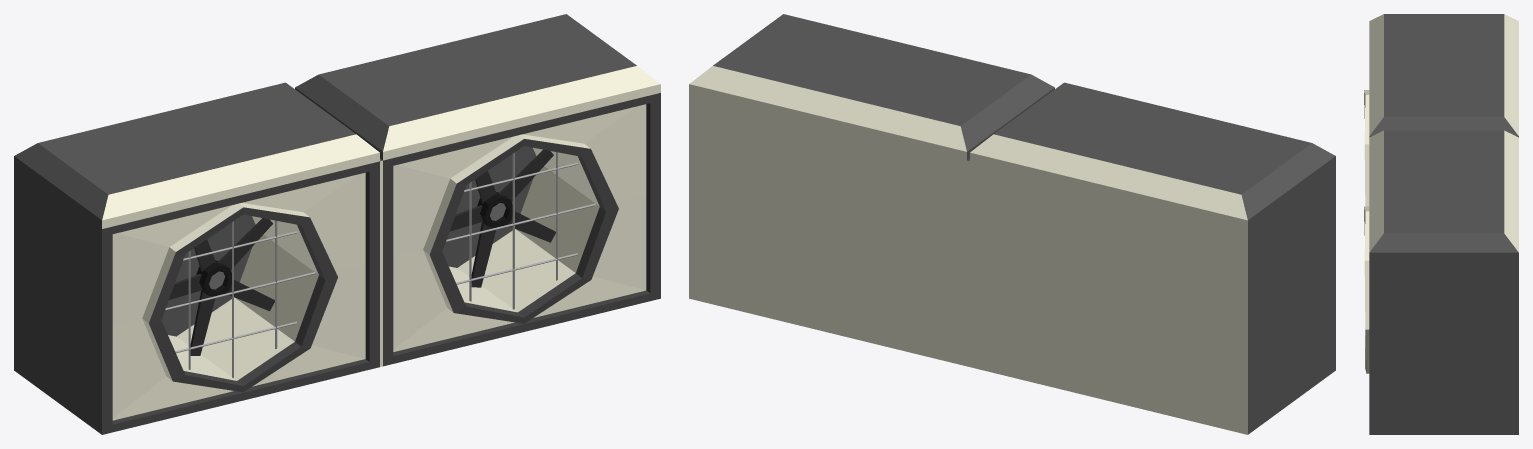
The model's file is conditioner_01.fbx.
3 renders of one model, left to right at view 1: azimuth 30°, elevation 25°; view 2: azimuth 150°, elevation 25°; view 3: azimuth 270°, elevation 25°, orthographic. The views are drawn at different scales.
Visible parts, largest first — view 1: conditioner_01, conditioner_01.001, conditioner_01.002; view 2: conditioner_01; view 3: conditioner_01.
Boxes of the visible parts, bbox=[...] form: conditioner_01: bbox=[14, 14, 660, 434]; conditioner_01.001: bbox=[449, 149, 555, 287]; conditioner_01.002: bbox=[169, 218, 274, 355]; conditioner_01: bbox=[689, 14, 1335, 434]; conditioner_01: bbox=[1364, 14, 1518, 434].
Bounding box in the file's own units: 242 × 95.35 × 68.36.
